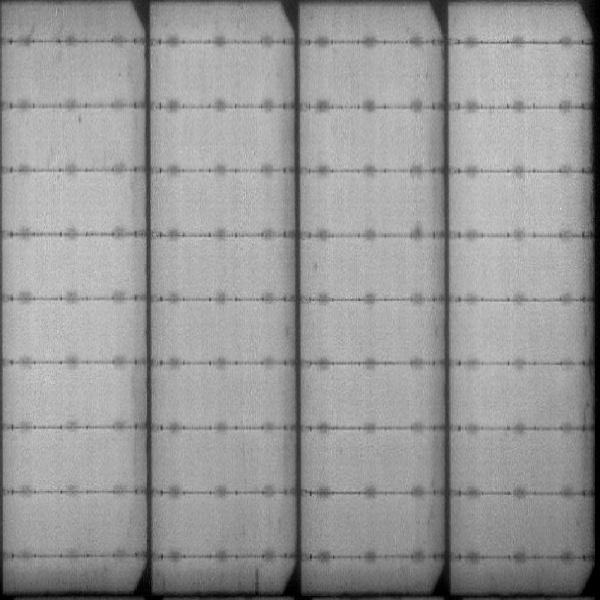scratch: (251, 567, 264, 598)
